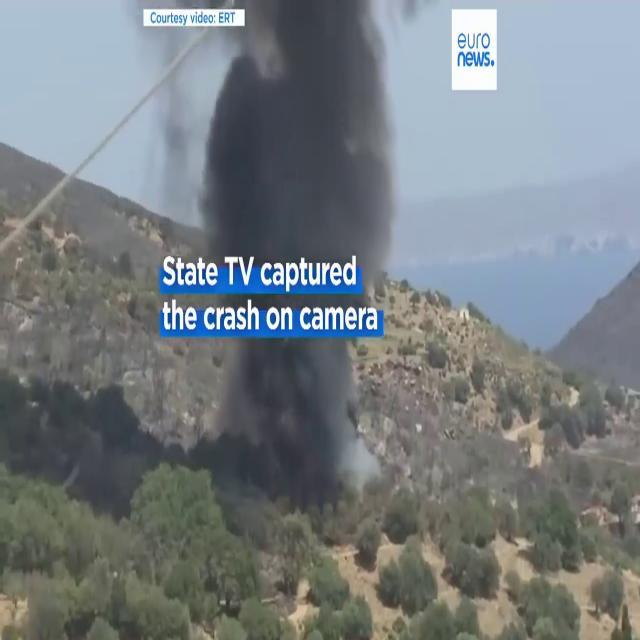Smoke: (174, 1, 402, 280), (208, 336, 388, 545)
